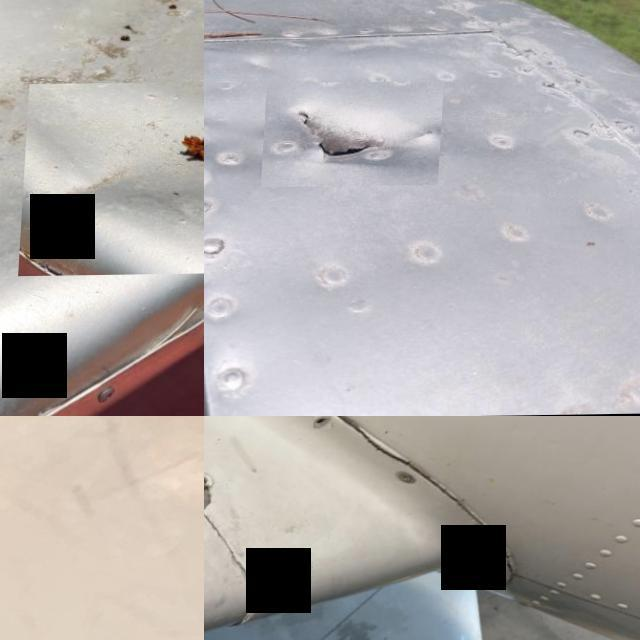Crack: (266, 82, 448, 188), (454, 488, 552, 578), (329, 416, 429, 482), (204, 424, 233, 517), (243, 594, 288, 616)
Dent: (23, 80, 204, 276)
Missing_Fastener: (472, 536, 494, 549), (317, 416, 336, 429)
